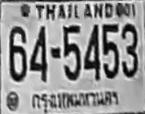3: (121, 23, 137, 77)
4: (28, 25, 47, 81), (83, 24, 99, 80)
5: (63, 24, 82, 80), (102, 23, 120, 78)
6: (8, 25, 27, 82)
BKK: (28, 88, 122, 113)
